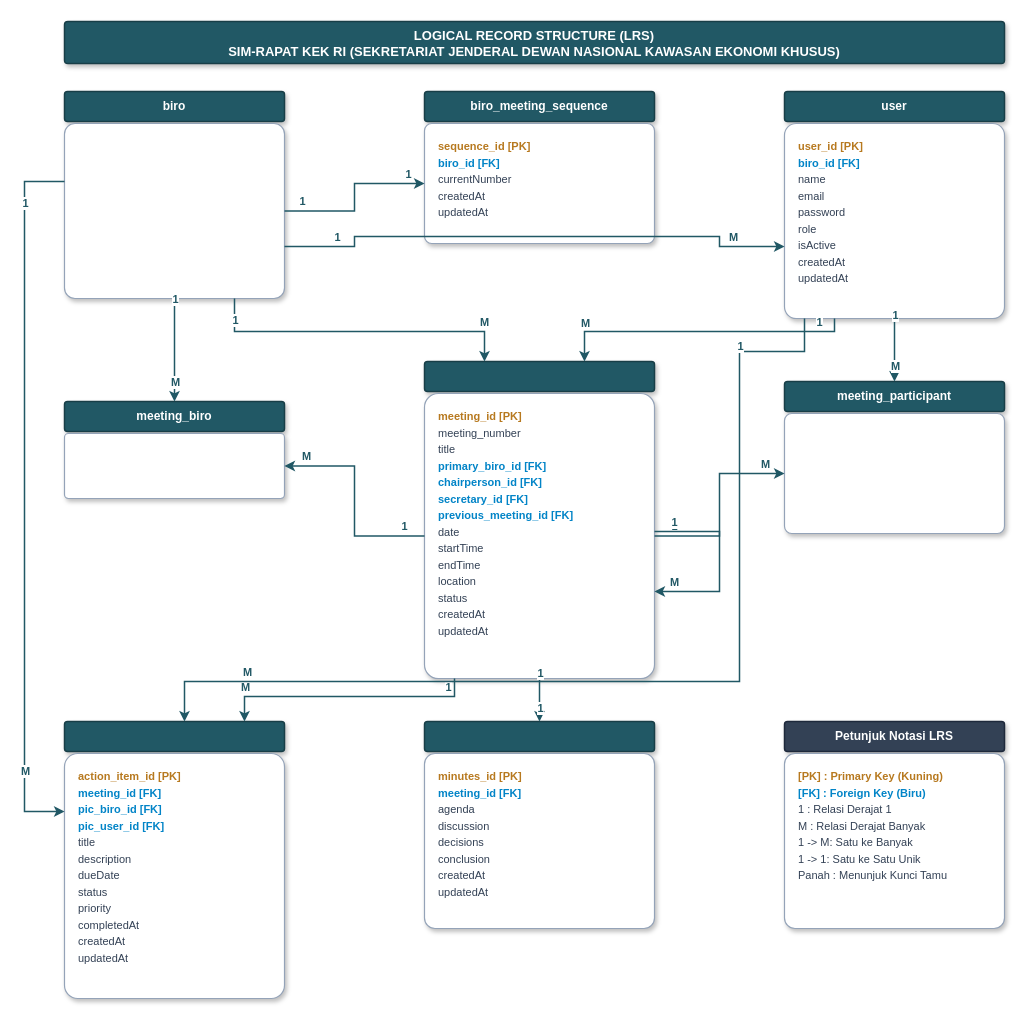
Some shapes in this 1029 by 1024 pixel diagram are drawn without their labels. The centre of each missing label's shape, as x and y in pixels:
action_item: (175,737)
biro_id [PK] code name shortName description isActive createdAt updatedAt: (175,212)
meeting: (540,377)
meeting_id [PK, FK] biro_id [PK, FK]: (175,467)
meeting_minutes: (540,737)
participant_id [PK] meeting_id [FK] user_id [FK] attendanceStatus createdAt: (895,474)
